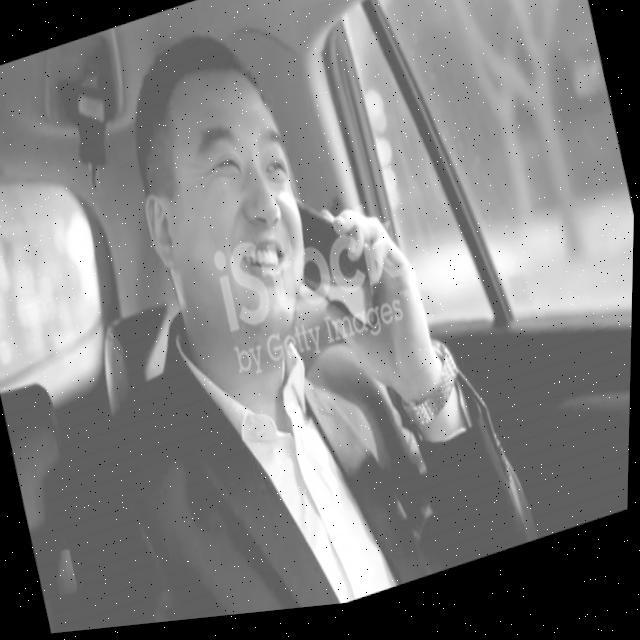PhoneCall: (285, 180, 386, 362)
